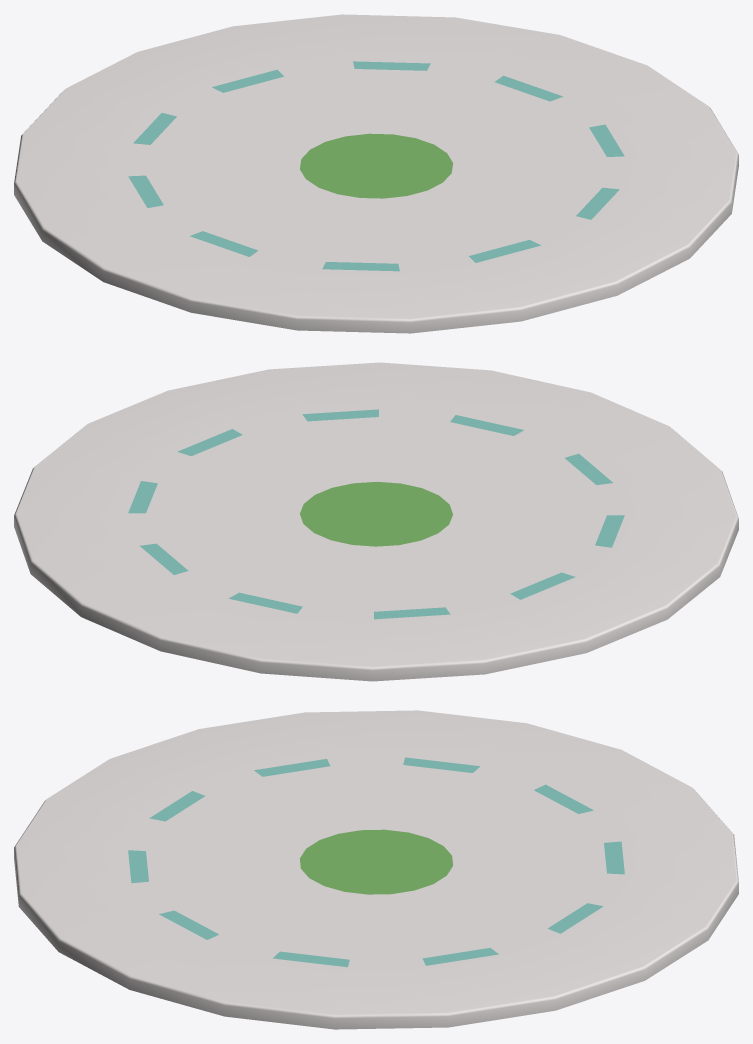
File: Roundabout.fbx
3 views of the same model, one above another, from view 1: azimuth 30°, elevation 25°; view 2: azimuth 150°, elevation 25°; view 3: azimuth 270°, elevation 25° (orthographic).
Visible parts, largest first — view 1: Roundabout; view 2: Roundabout; view 3: Roundabout.
Part boxes in pixels (box(x1,y1,x2,y2)): Roundabout: box(14, 14, 738, 333); Roundabout: box(14, 362, 738, 681); Roundabout: box(14, 710, 738, 1029).
Size of the model in its own units: 1606 by 1606 by 34.71.
